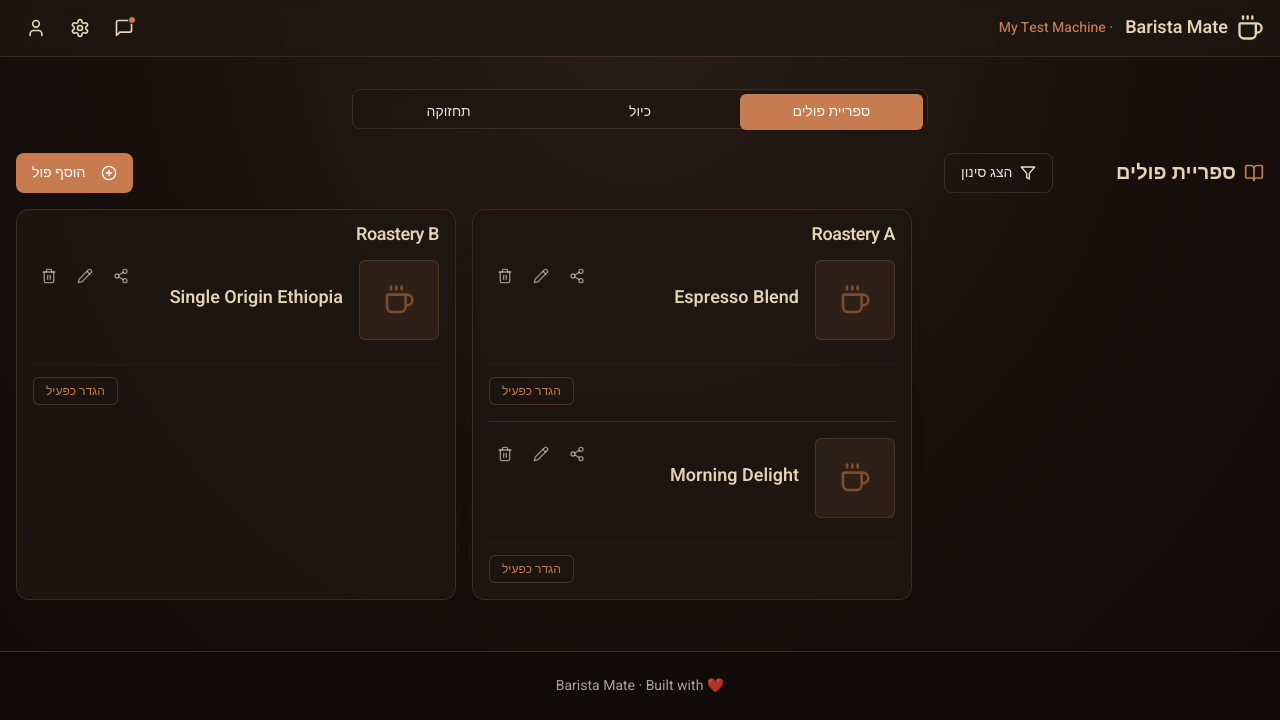
Feedback Form › feedback dialog opens when feedback button is clicked
Click the button named "פידבק" at (124, 28), box [104, 8, 144, 48]
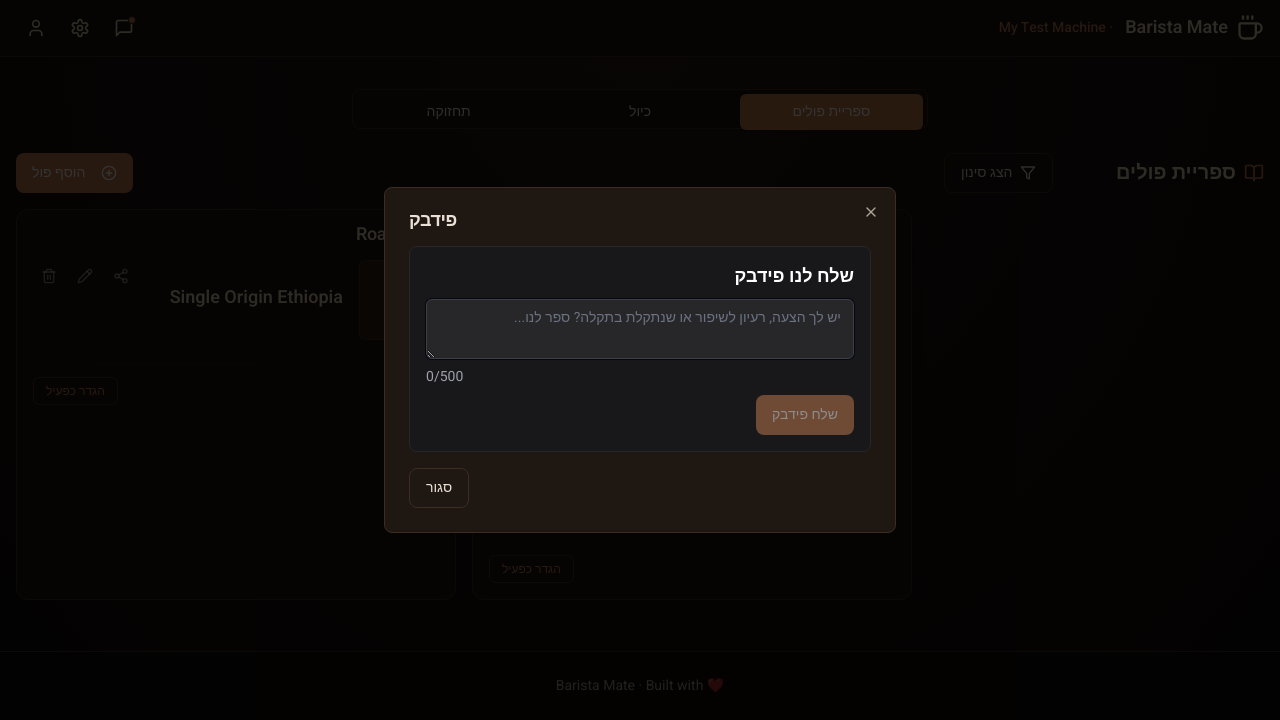
Expected: the dialog is shown, [384, 187, 896, 533]
Expected: the heading "פידבק" is shown, [409, 207, 457, 234]
